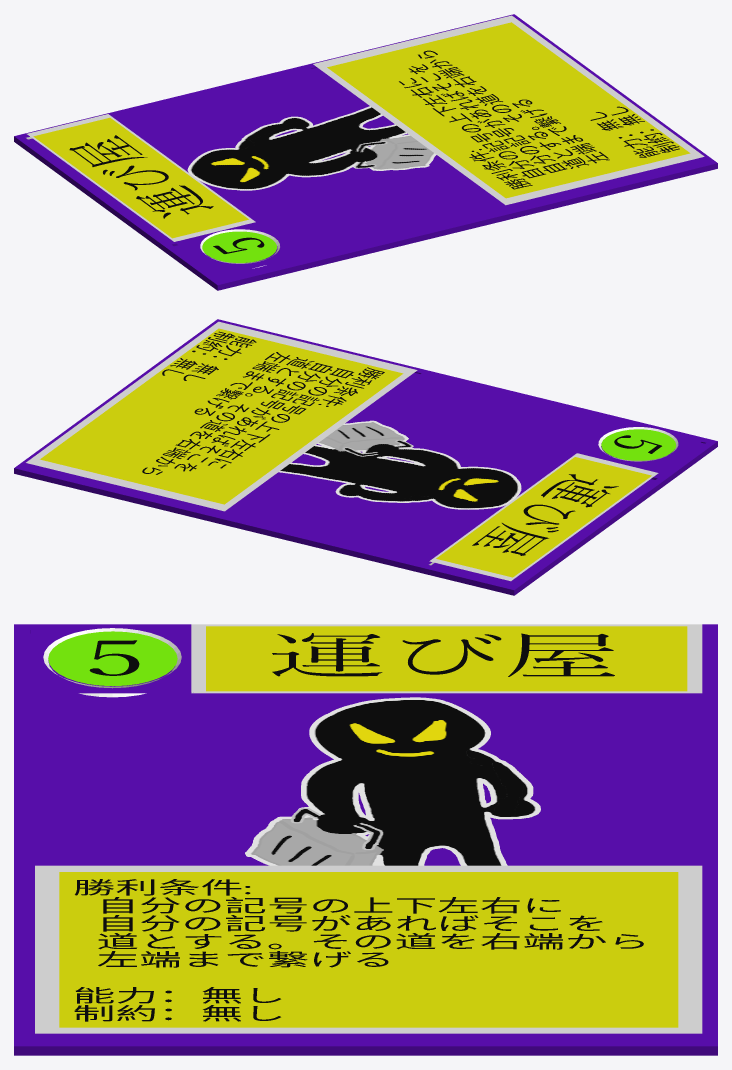
Rendered from 運び屋紫.fbx.
3 views of the same model, one above another, from view 1: azimuth 30°, elevation 25°; view 2: azimuth 150°, elevation 25°; view 3: azimuth 270°, elevation 25° (orthographic). The views are drawn at different scales.
Visible parts, largest first — view 1: カード本体.001, 説明欄, 平面.001, 名前欄, 説明文, 円, 平面, 名前; view 2: カード本体.001, 説明欄, 平面.001, 名前欄, 説明文, 円, 平面, 名前; view 3: カード本体.001, 説明欄, 平面.001, 名前欄, 説明文, 平面, 円, 名前, コスト蘭.
Part boxes in pixels (<box>): カード本体.001: <box>14,14,717,290</box>; 説明欄: <box>313,15,704,205</box>; 平面.001: <box>187,106,436,190</box>; 名前欄: <box>27,114,255,241</box>; 説明文: <box>399,50,679,189</box>; 円: <box>202,231,276,262</box>; 平面: <box>174,222,302,275</box>; 名前: <box>69,135,213,218</box>; カード本体.001: <box>14,319,717,595</box>; 説明欄: <box>26,321,417,511</box>; 平面.001: <box>278,420,521,509</box>; 名前欄: <box>429,453,658,581</box>; 説明文: <box>142,331,384,474</box>; 円: <box>601,429,675,460</box>; 平面: <box>577,419,704,472</box>; 名前: <box>472,474,618,555</box>; カード本体.001: <box>14,624,717,1055</box>; 説明欄: <box>35,865,702,1033</box>; 平面.001: <box>245,697,540,865</box>; 名前欄: <box>191,624,702,693</box>; 説明文: <box>74,879,643,1021</box>; 平面: <box>30,624,191,693</box>; 円: <box>48,631,177,686</box>; 名前: <box>272,633,614,676</box>; コスト蘭: <box>43,628,181,697</box>.
Size of the model in its own units: 281 by 6.07 by 198.
